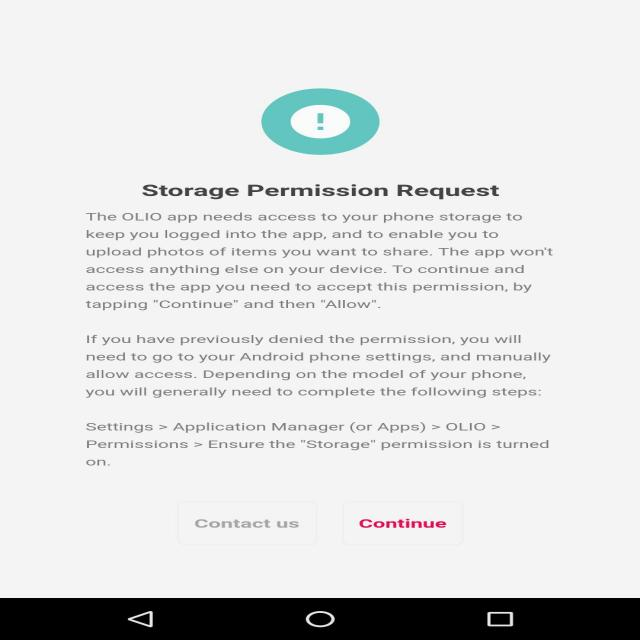button: (339, 496, 494, 545), (174, 500, 324, 549)
icon: (272, 599, 354, 640), (99, 595, 177, 634), (471, 600, 533, 640)
image: (223, 81, 403, 159)
text: (65, 179, 574, 474), (184, 513, 316, 538), (352, 513, 453, 536)
